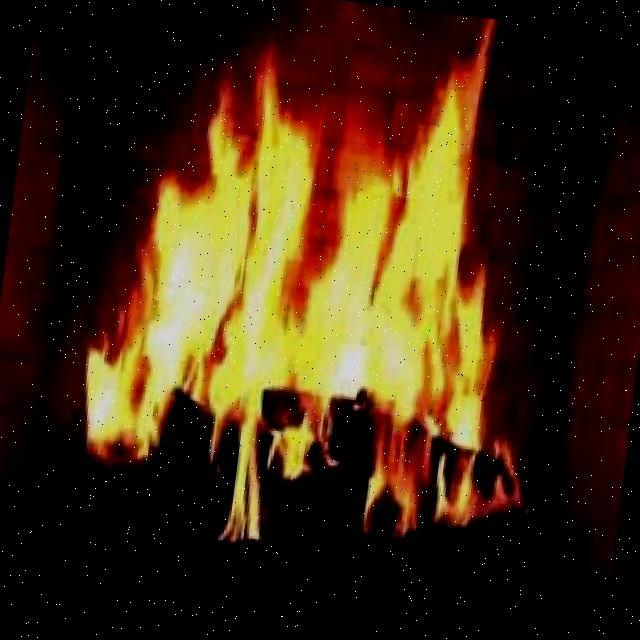Fire: (89, 17, 499, 490)
